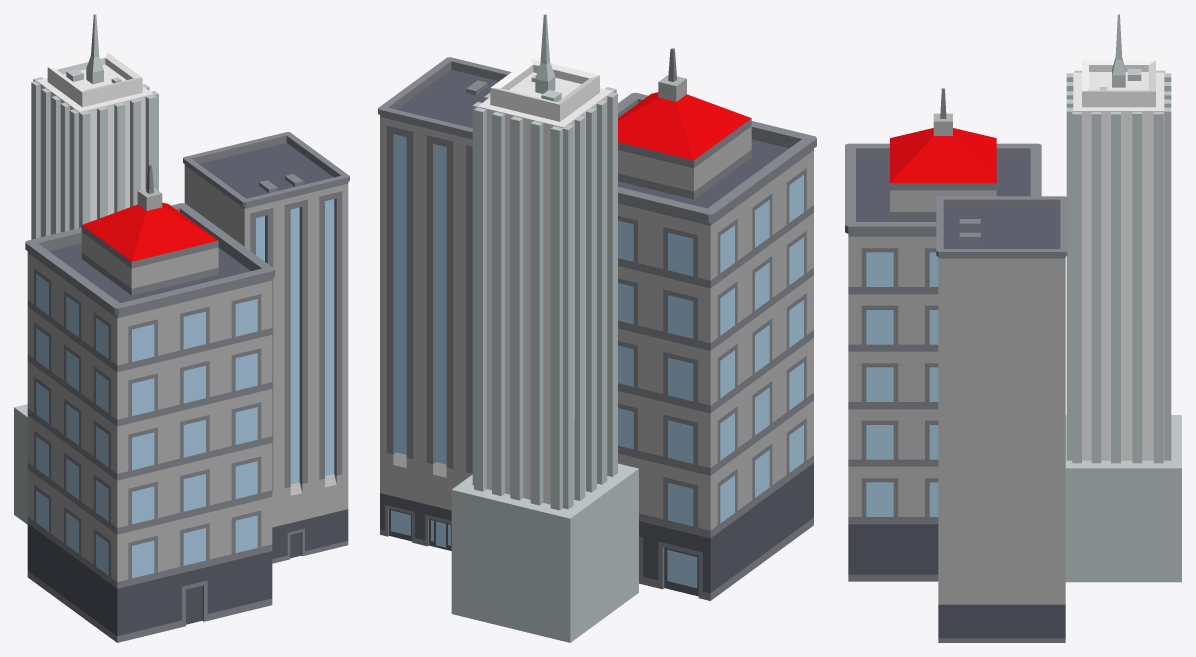
Rendered from building_city_enemy.glb.
The picture shows the model from 3 angles, left to right: view 1: azimuth 30°, elevation 25°; view 2: azimuth 150°, elevation 25°; view 3: azimuth 270°, elevation 25°; orthographic projection. The views are drawn at different scales.
Visible parts, largest first — view 1: skyscraperE, skyscraperF, Node; view 2: skyscraperE, Node, skyscraperF; view 3: skyscraperF, Node, skyscraperE.
Part boxes in pixels (<box>): skyscraperE: <box>25,164,274,642</box>; skyscraperF: <box>183,132,349,563</box>; Node: <box>14,14,158,524</box>; skyscraperE: <box>618,48,816,600</box>; Node: <box>451,14,638,642</box>; skyscraperF: <box>378,57,511,550</box>; skyscraperF: <box>936,196,1067,642</box>; Node: <box>1065,14,1181,582</box>; skyscraperE: <box>845,88,1041,581</box>.
Size of the model in its own units: 0.8779 by 1.54 by 0.8684.
